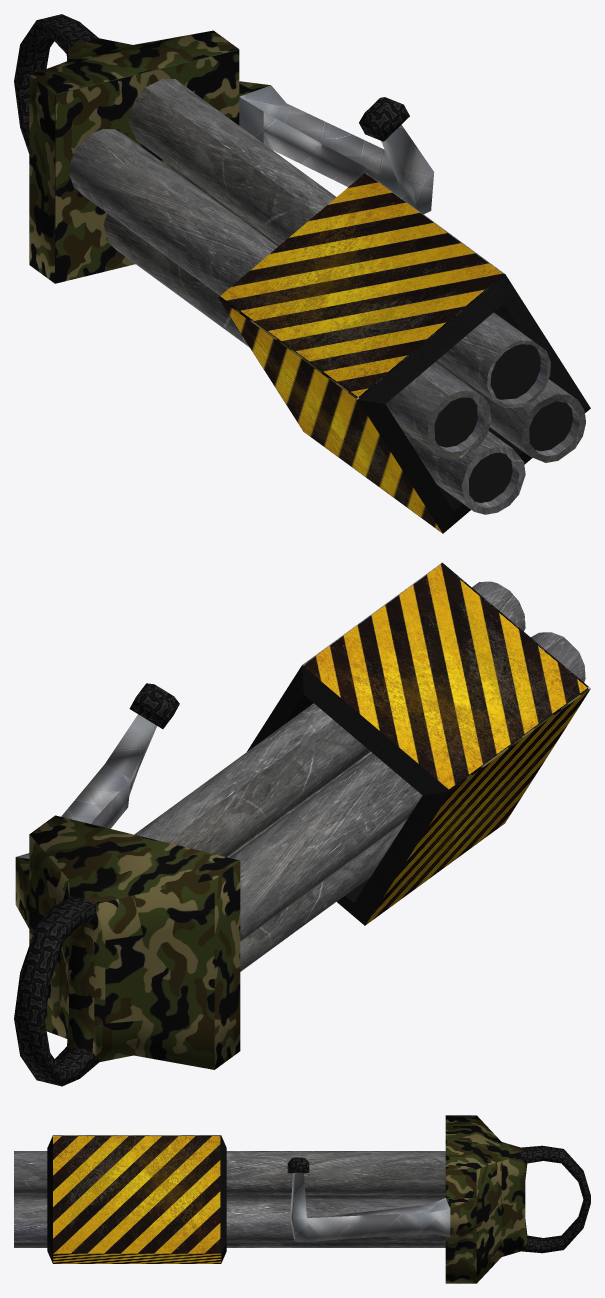
Rendered from chaingun_000001.obj.
3 renders of one model, top to bottom at view 1: azimuth 30°, elevation 25°; view 2: azimuth 150°, elevation 25°; view 3: azimuth 270°, elevation 25°, orthographic. The views are drawn at different scales.
Parts seen in each view (by area): view 1: Cylinder.001, Cylinder.000_Cylinder.004, Cube; view 2: Cube, Cylinder.000_Cylinder.004, Cylinder.001; view 3: Cylinder.000_Cylinder.004, Cylinder.001, Cube.
Boxes of the visible parts, left/top/right/bottom form: Cylinder.001: left=69, top=78, right=585, bottom=514; Cylinder.000_Cylinder.004: left=218, top=172, right=590, bottom=533; Cube: left=14, top=14, right=434, bottom=283; Cube: left=14, top=683, right=240, bottom=1086; Cylinder.000_Cylinder.004: left=247, top=562, right=590, bottom=925; Cylinder.001: left=134, top=581, right=585, bottom=971; Cylinder.000_Cylinder.004: left=47, top=1135, right=226, bottom=1263; Cylinder.001: left=14, top=1151, right=445, bottom=1247; Cube: left=287, top=1115, right=590, bottom=1283.
Bounding box in the file's own units: 1.72 × 1.48 × 5.15.
3 materials, 3 textured.
